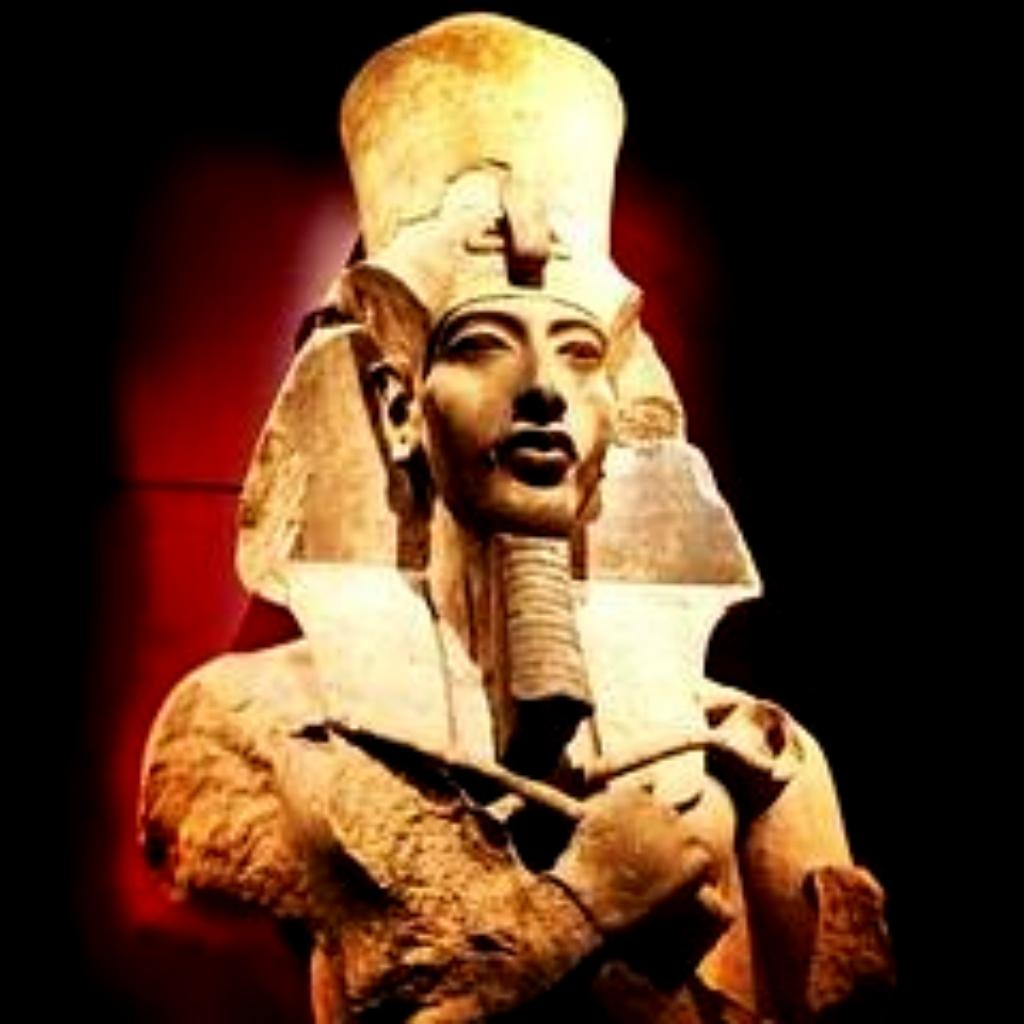Akhenaten: (128, 4, 917, 1020)
